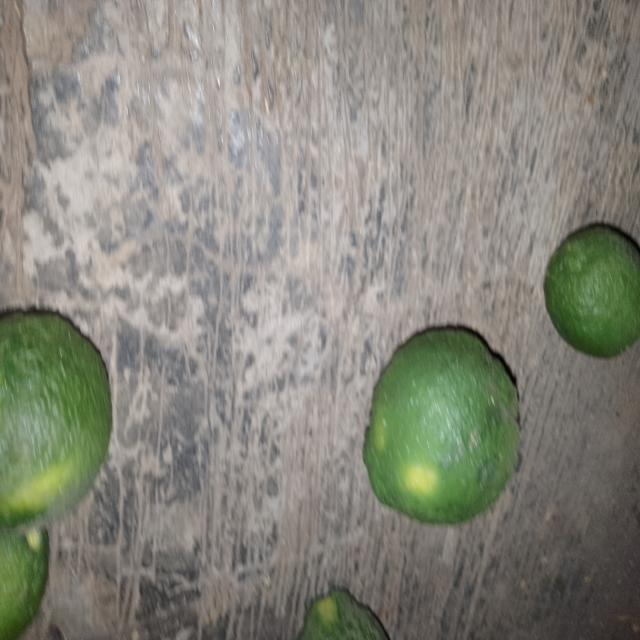Unripe: (348, 304, 538, 538), (0, 293, 125, 544)
